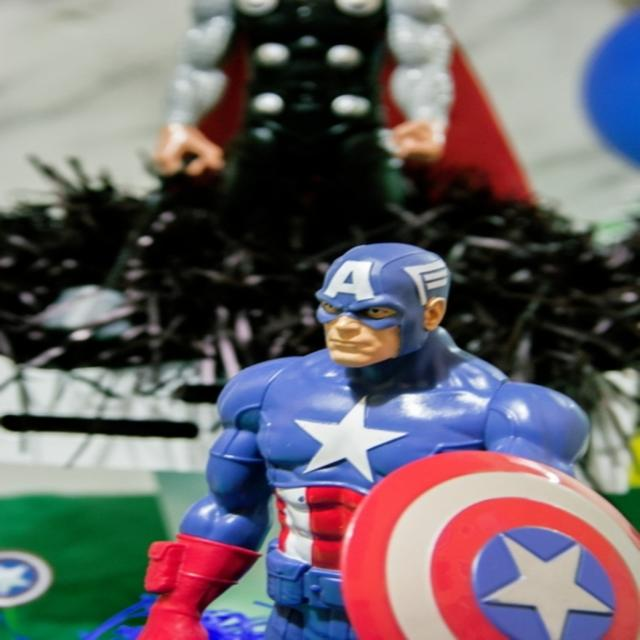Toy: (135, 243, 640, 640), (150, 0, 538, 285)
